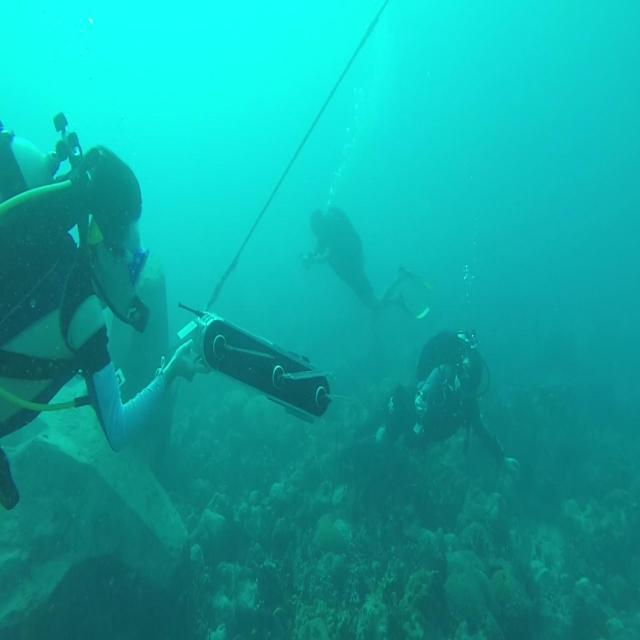human: (1, 142, 210, 509), (378, 327, 520, 480), (299, 204, 435, 322)
